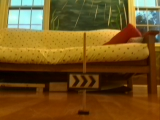right: (68, 73, 100, 89)
